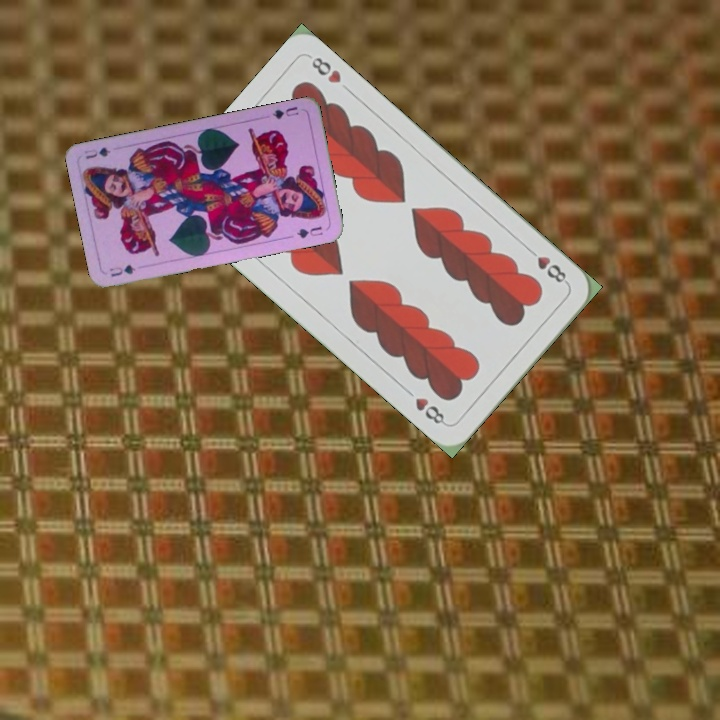GU: (268, 102, 301, 122), (106, 261, 138, 279)
H8: (522, 243, 571, 287)
